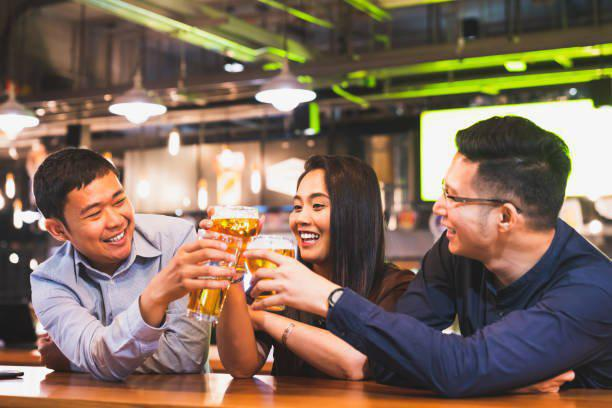Drunk: (72, 178, 133, 263), (289, 180, 336, 258)
